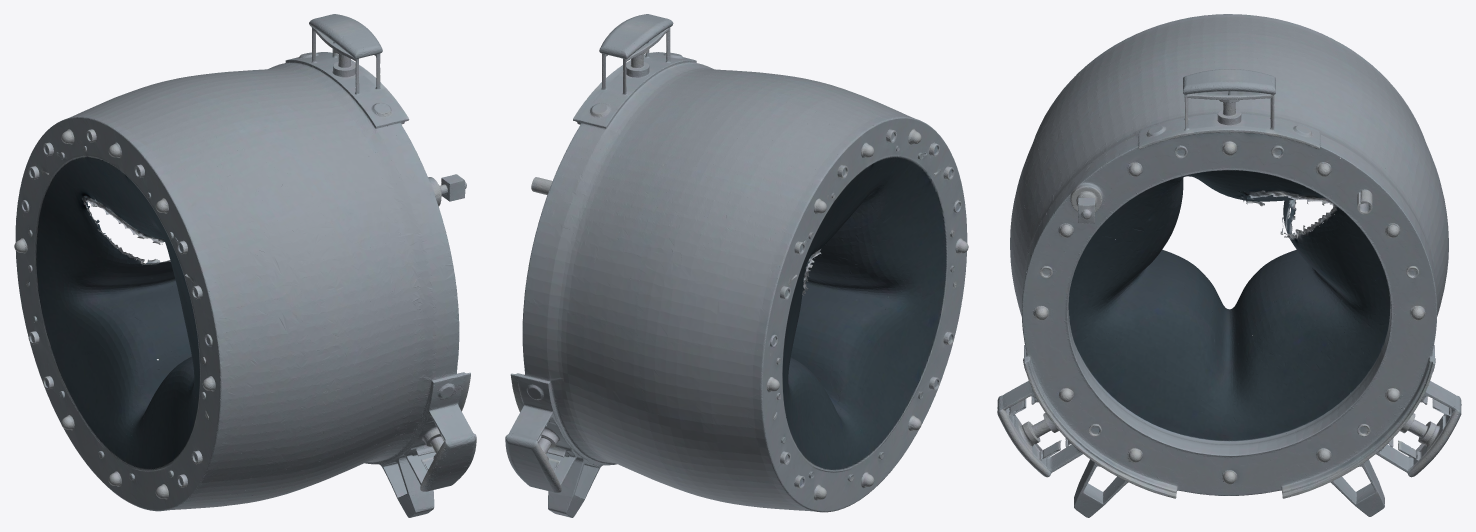
Rendered from circular-mechanical-hatch-3d-model.glb.
3 renders of one model, left to right at view 1: azimuth 30°, elevation 25°; view 2: azimuth 150°, elevation 25°; view 3: azimuth 270°, elevation 25°, orthographic.
Parts seen in each view (by area): view 1: tripo_node_12e5cd2a-edb2-4e57-b914-c76fb2d29f6f; view 2: tripo_node_12e5cd2a-edb2-4e57-b914-c76fb2d29f6f; view 3: tripo_node_12e5cd2a-edb2-4e57-b914-c76fb2d29f6f.
Boxes of the visible parts, x1=… form: tripo_node_12e5cd2a-edb2-4e57-b914-c76fb2d29f6f: x1=14, y1=14, x2=476, y2=517; tripo_node_12e5cd2a-edb2-4e57-b914-c76fb2d29f6f: x1=505, y1=14, x2=968, y2=517; tripo_node_12e5cd2a-edb2-4e57-b914-c76fb2d29f6f: x1=997, y1=14, x2=1461, y2=517.
Size of the model in its own units: 0.6819 by 0.9999 by 0.9611.
Materials: 1 (1 with a texture image).
